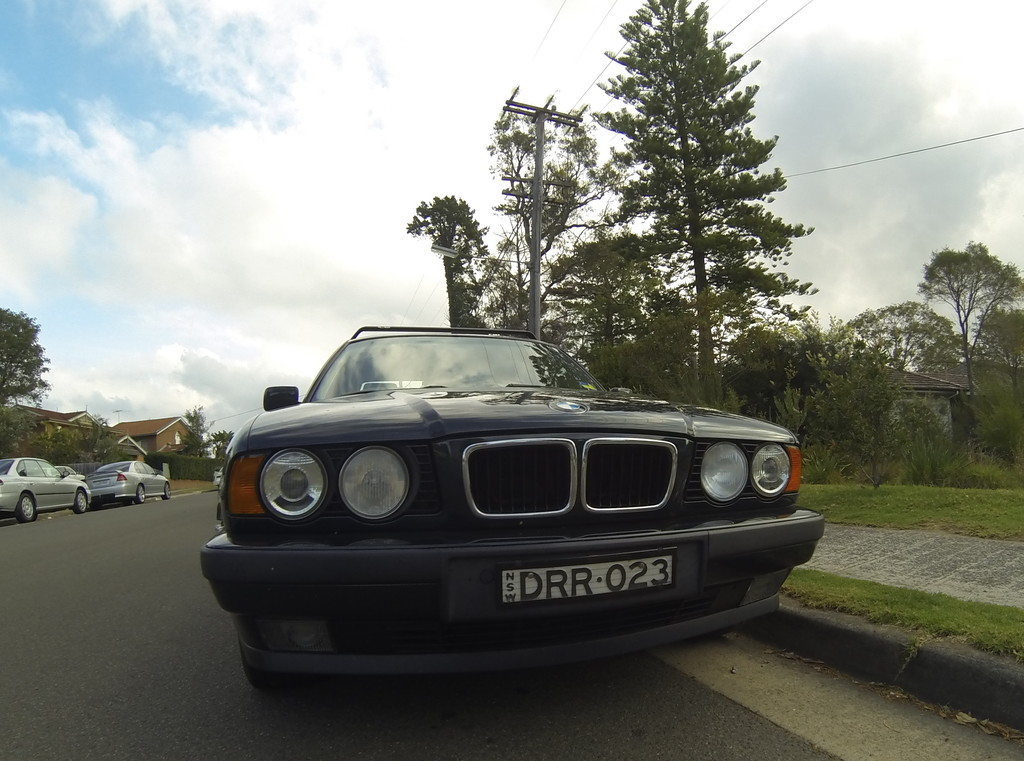license plate: (493, 570, 679, 608)
